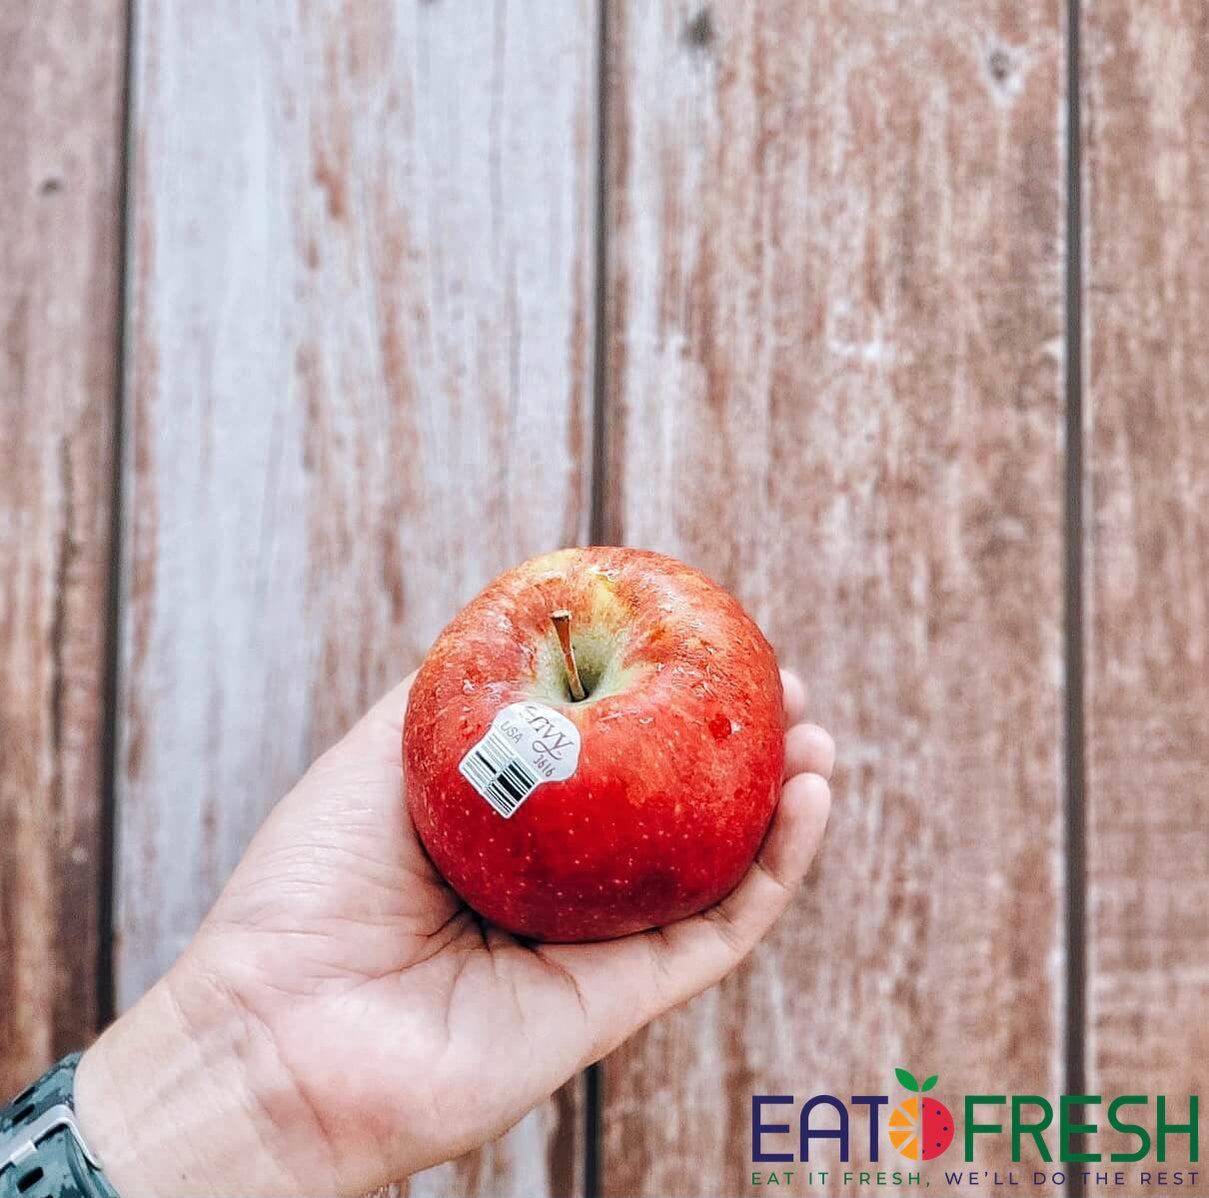apple: (399, 540, 792, 948)
